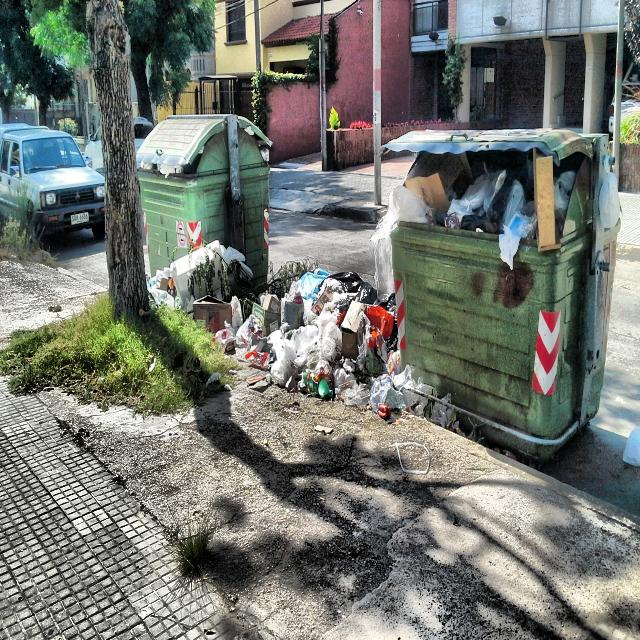garbage: (165, 226, 390, 402), (388, 156, 564, 253)
